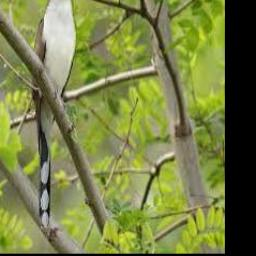Cuckoo: (32, 0, 78, 229)
